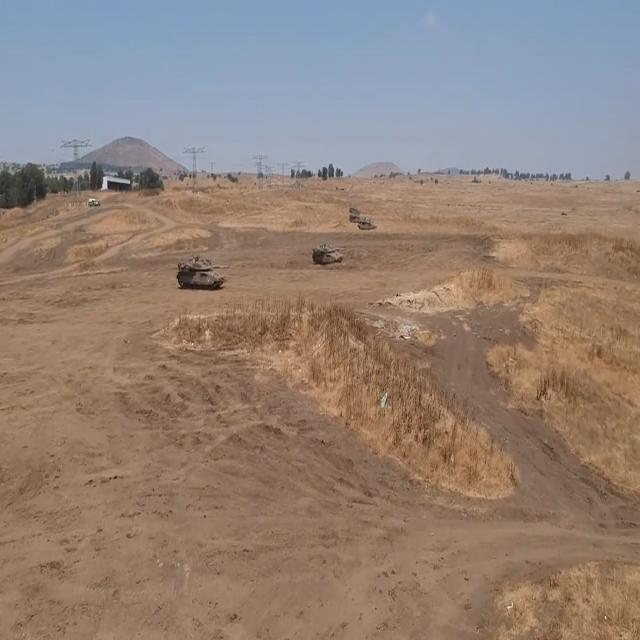tank: (174, 247, 228, 290), (310, 238, 343, 262), (361, 217, 375, 231), (350, 205, 360, 222)
